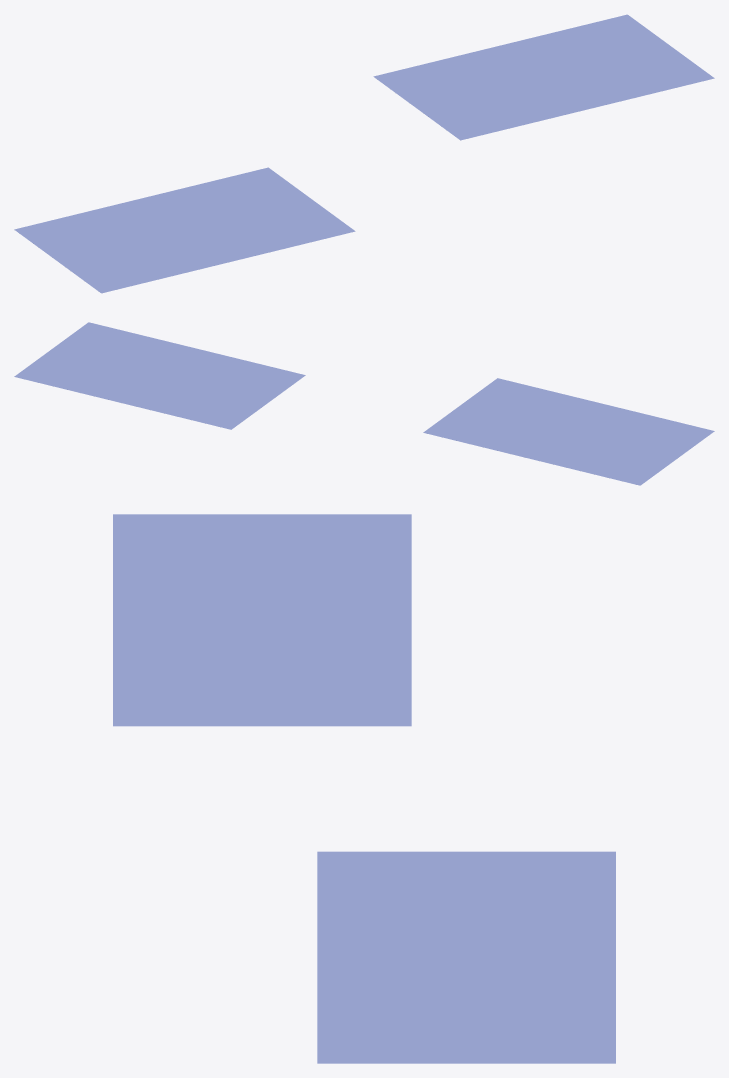
Rendered from water.glb.
3 renders of one model, top to bottom at view 1: azimuth 30°, elevation 25°; view 2: azimuth 150°, elevation 25°; view 3: azimuth 270°, elevation 25°, orthographic. The views are drawn at different scales.
Parts seen in each view (by area): view 1: water; view 2: water; view 3: water.
Part boxes in pixels (x1,y1,x2,y2): water: (14,14,714,293); water: (14,322,714,485); water: (113,514,615,1063).
Size of the model in its own units: 6175 by 61.19 by 2338.
